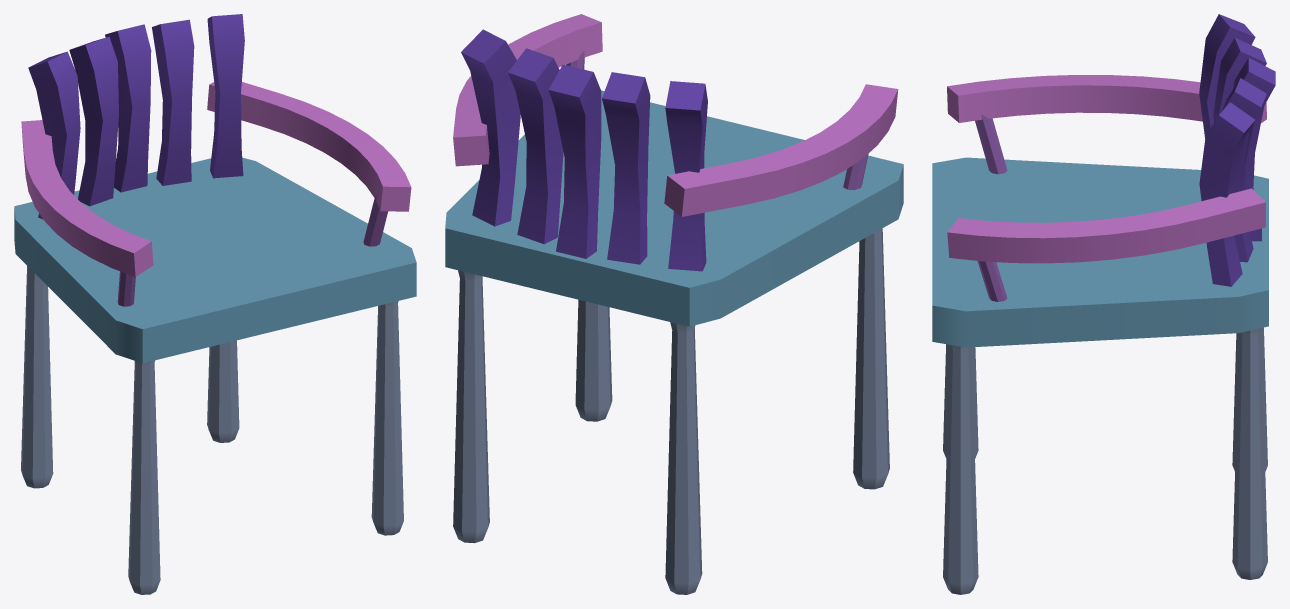
File: Chair.RTpaint.fbx
The picture shows the model from 3 angles, left to right: view 1: azimuth 30°, elevation 25°; view 2: azimuth 150°, elevation 25°; view 3: azimuth 270°, elevation 25°; orthographic projection. The views are drawn at different scales.
Parts seen in each view (by area): view 1: pCylinder8; view 2: pCylinder8; view 3: pCylinder8.
Boxes of the visible parts, x1,y1,x2,y2 form: pCylinder8: (14,14,416,594); pCylinder8: (445,14,903,594); pCylinder8: (932,14,1275,594).
Size of the model in its own units: 4.36 by 5.79 by 3.9.
